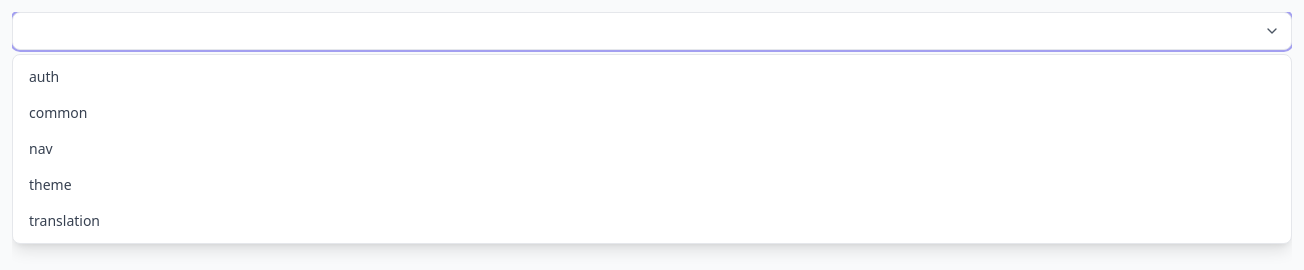
Test: EditableCombobox › writes the clicked option into the field and closes
Press the mouse on the option "theme" at (50, 184), box 29,175 -> 72,194
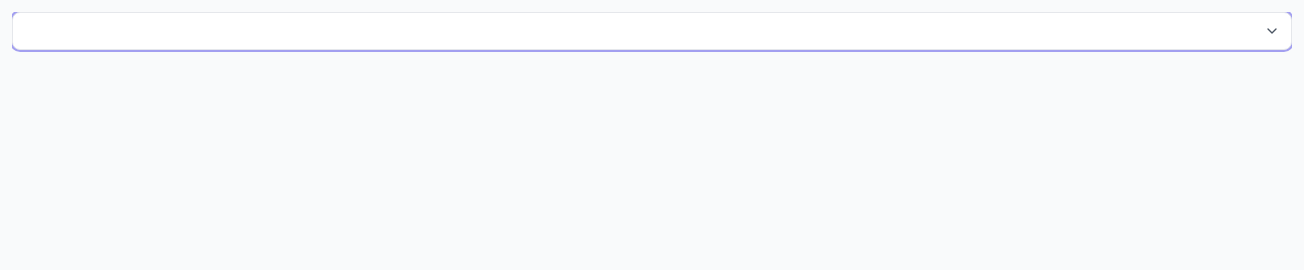
Result: the list is gone
